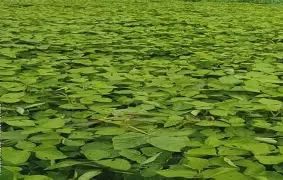crops: (0, 0, 280, 178), (186, 0, 277, 6)
